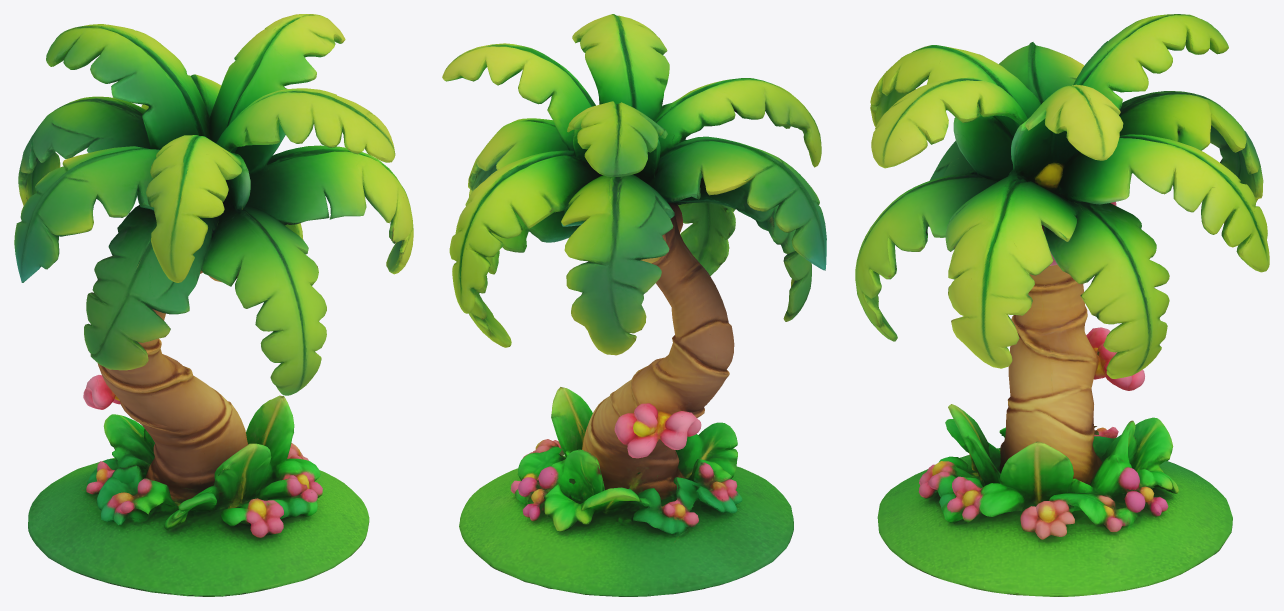
The model's file is tree2.glb.
3 renders of one model, left to right at view 1: azimuth 30°, elevation 25°; view 2: azimuth 150°, elevation 25°; view 3: azimuth 270°, elevation 25°, orthographic. The views are drawn at different scales.
Visible parts, largest first — view 1: world_0; view 2: world_0; view 3: world_0.
Part boxes in pixels (<box>): world_0: <box>14,14,413,596</box>; world_0: <box>442,14,826,596</box>; world_0: <box>855,14,1269,596</box>.
Size of the model in its own units: 0.829 by 0.9999 by 0.7736.
1 material, 1 textured.
